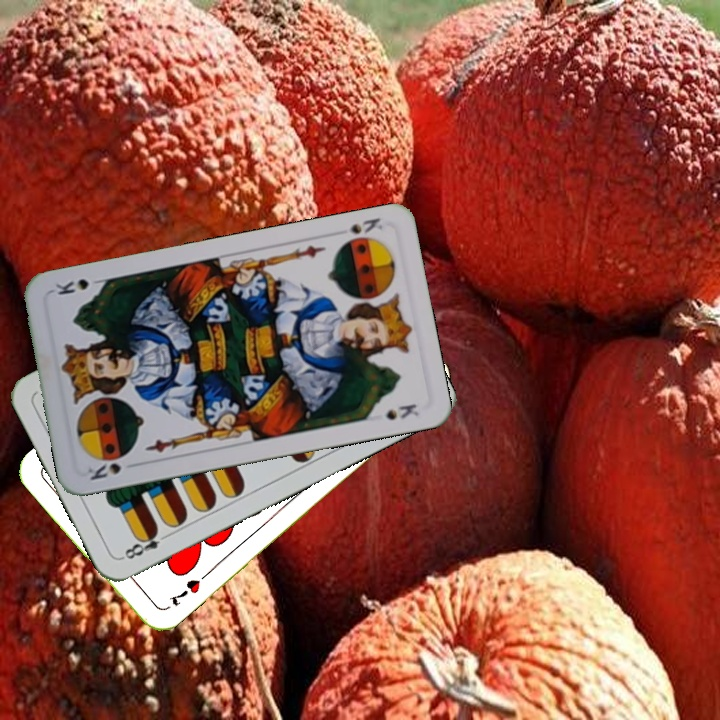E8: (118, 525, 173, 562)
H7: (164, 569, 210, 609)
SK: (82, 452, 129, 483), (345, 213, 386, 237)
